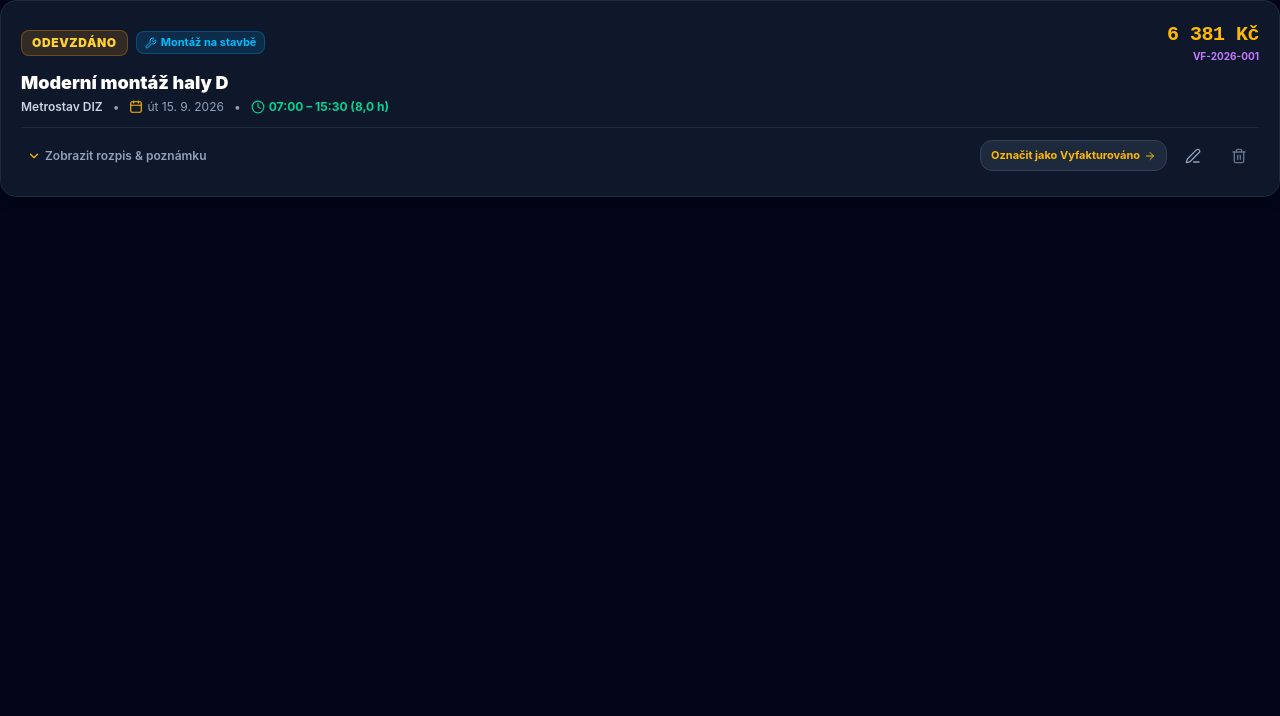
Test: UI/UX Redesign Requirements Verification › R2. Hierarchické karty směn (EntryCard) › EntryCard: structured expandable details reveal technical passport, materials, and notes
What coordinates should you click on to do the following:
click the button "Zobrazit rozpis & poznámku"
I would click on:
 (117, 156)
Its box is x1=21 y1=144 x2=212 y2=168.
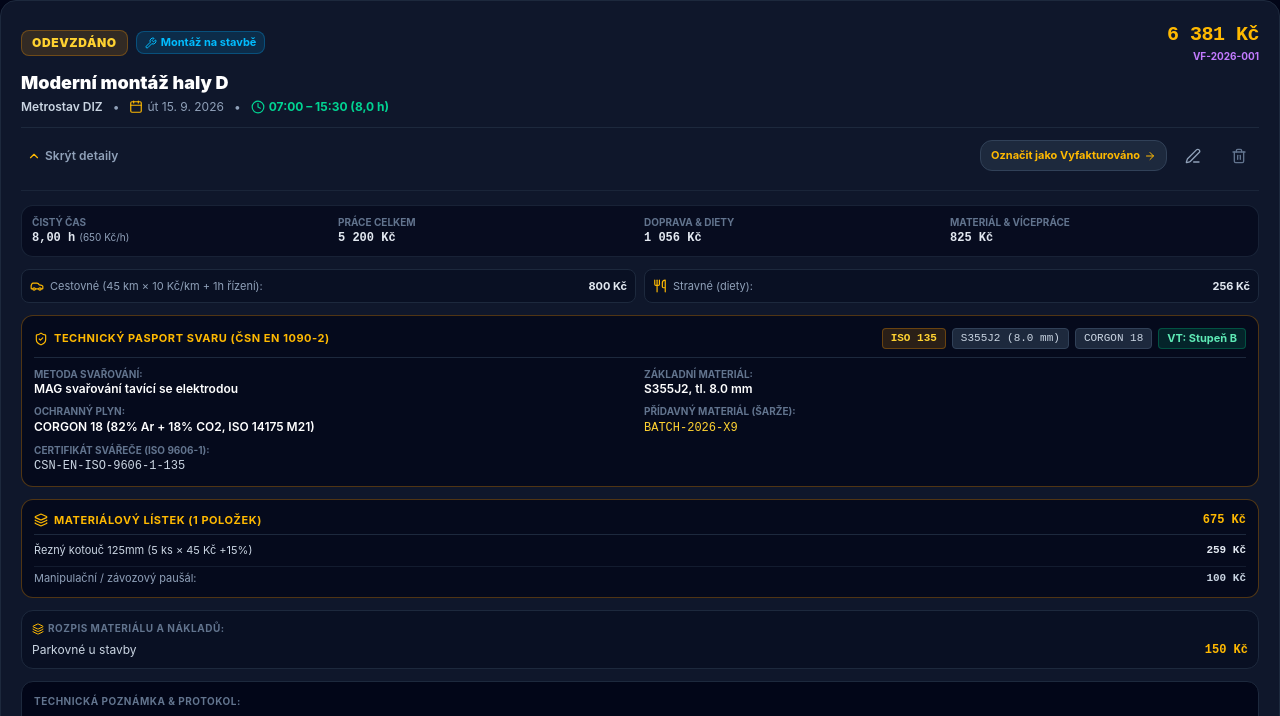
Now the text "Skrýt detaily" is shown, box x1=45 y1=148 x2=118 y2=164
Now the text "S355J2 (8.0 mm)" is shown, box x1=952 y1=328 x2=1069 y2=349
Now the text "BATCH-2026-X9" is shown, box x1=644 y1=421 x2=738 y2=435
Note: Click to collapse
What coordinates should you click on to do the following:
click the button "Skrýt detaily"
I would click on:
 (73, 156)
Its box is x1=21 y1=144 x2=124 y2=168.
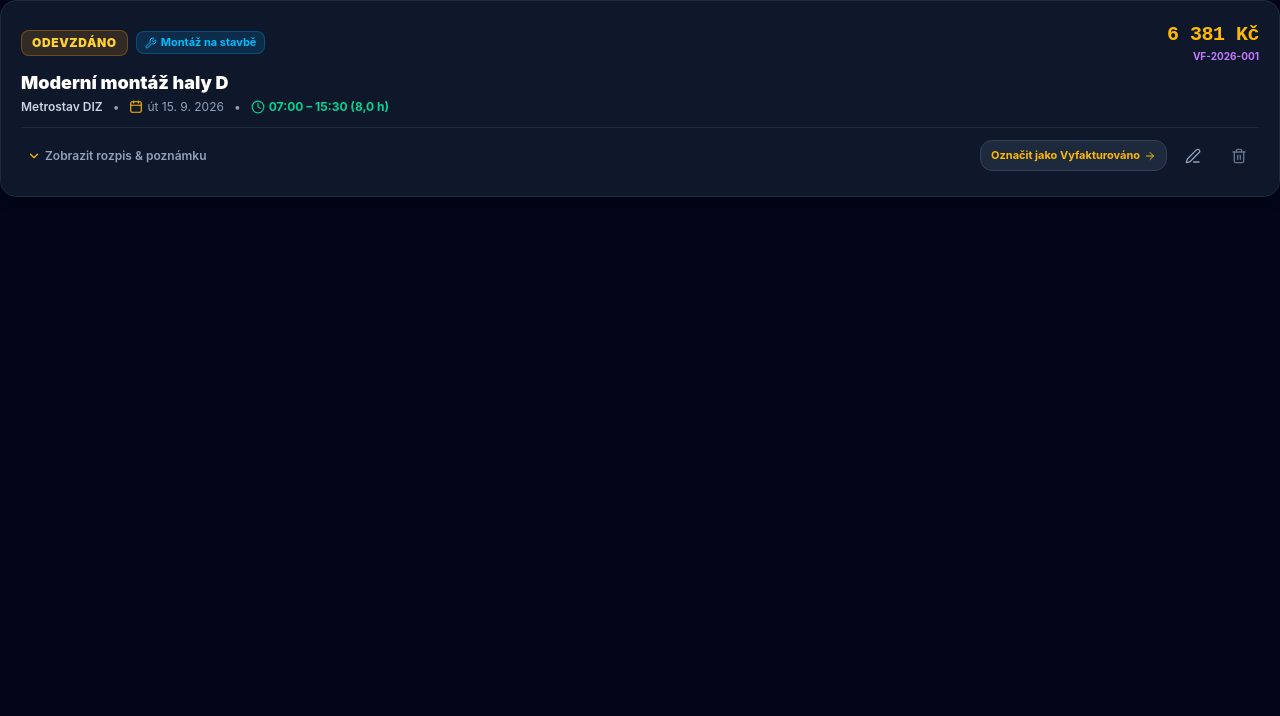
Now the button "Zobrazit rozpis & poznámku" is shown, box x1=21 y1=144 x2=212 y2=168
